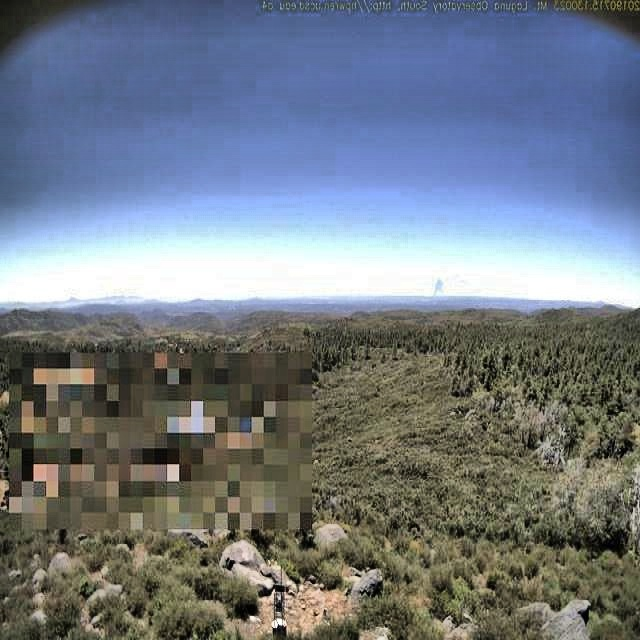smoke: (427, 272, 450, 305)
